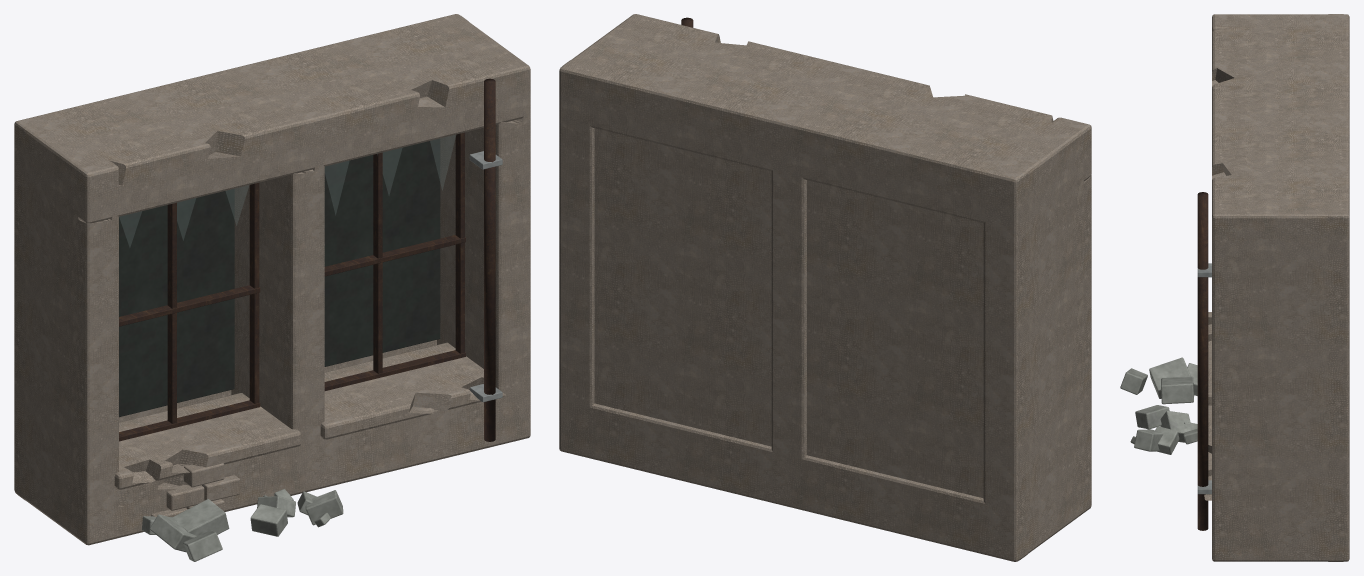
The model's file is f3_v3_deep_window_bay.glb.
3 renders of one model, left to right at view 1: azimuth 30°, elevation 25°; view 2: azimuth 150°, elevation 25°; view 3: azimuth 270°, elevation 25°, orthographic. The views are drawn at different scales.
Visible parts, largest first — view 1: f3_weathered_concrete_surface, f3_deep_crack_surface, f3_oxidized_iron_surface, f3_exposed_aggregate_surface, dirty fractured window glass_surface, f3_aged_brick_infill_surface, f3_bare_worn_steel_surface; view 2: f3_weathered_concrete_surface; view 3: f3_weathered_concrete_surface, f3_exposed_aggregate_surface, f3_oxidized_iron_surface, f3_bare_worn_steel_surface.
Boxes of the visible parts, box(x1,y1,x2,y2) form: f3_weathered_concrete_surface: box(14, 14, 530, 545); f3_deep_crack_surface: box(119, 138, 440, 417); f3_oxidized_iron_surface: box(119, 78, 495, 441); f3_exposed_aggregate_surface: box(142, 489, 343, 561); dirty fractured window glass_surface: box(119, 135, 455, 246); f3_aged_brick_infill_surface: box(151, 463, 239, 516); f3_bare_worn_steel_surface: box(469, 151, 502, 402); f3_weathered_concrete_surface: box(559, 14, 1091, 561); f3_weathered_concrete_surface: box(1204, 14, 1349, 561); f3_exposed_aggregate_surface: box(1120, 357, 1197, 454); f3_oxidized_iron_surface: box(1197, 192, 1208, 530); f3_bare_worn_steel_surface: box(1197, 263, 1211, 494).
Bounding box in the file's own units: 4 × 3.24 × 1.92.
Materials: 7 (6 with a texture image).
